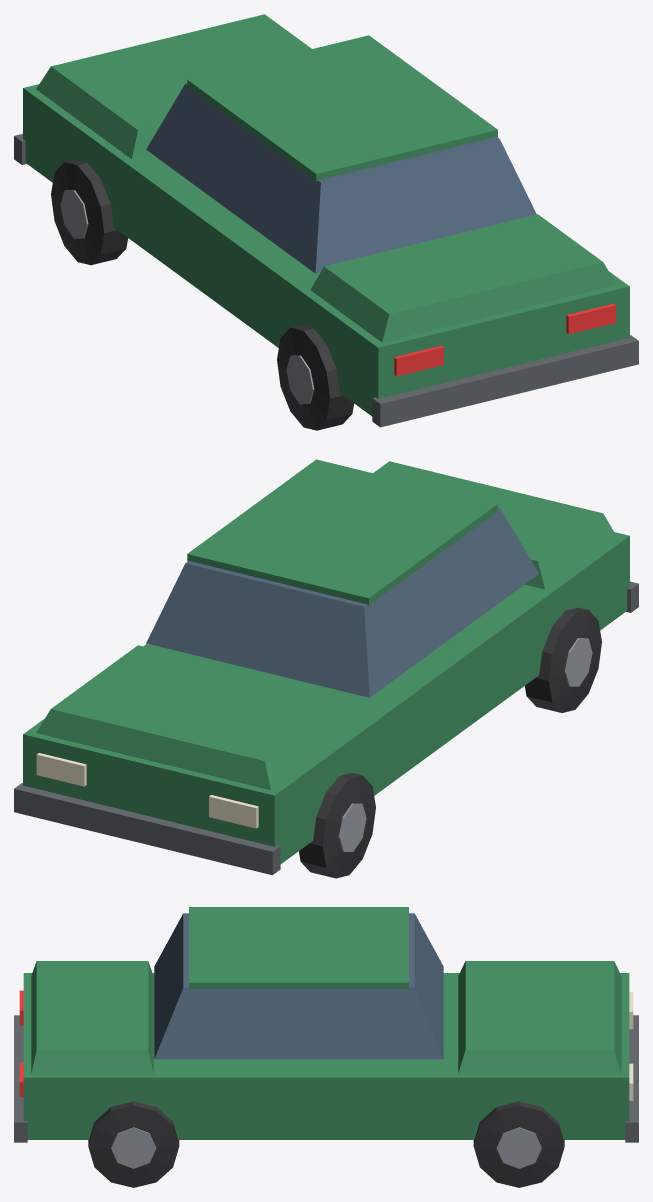
File: Car_sign_green.obj
3 views of the same model, one above another, from view 1: azimuth 30°, elevation 25°; view 2: azimuth 150°, elevation 25°; view 3: azimuth 270°, elevation 25° (orthographic). The views are drawn at different scales.
Visible parts, largest first — view 1: Car_sign_green; view 2: Car_sign_green; view 3: Car_sign_green.
Boxes of the visible parts, <box> form: Car_sign_green: <box>14,14,638,430</box>; Car_sign_green: <box>14,459,638,878</box>; Car_sign_green: <box>14,907,638,1187</box>.
Size of the model in its own units: 2 by 1.5 by 4.54.
1 material, 1 textured.
